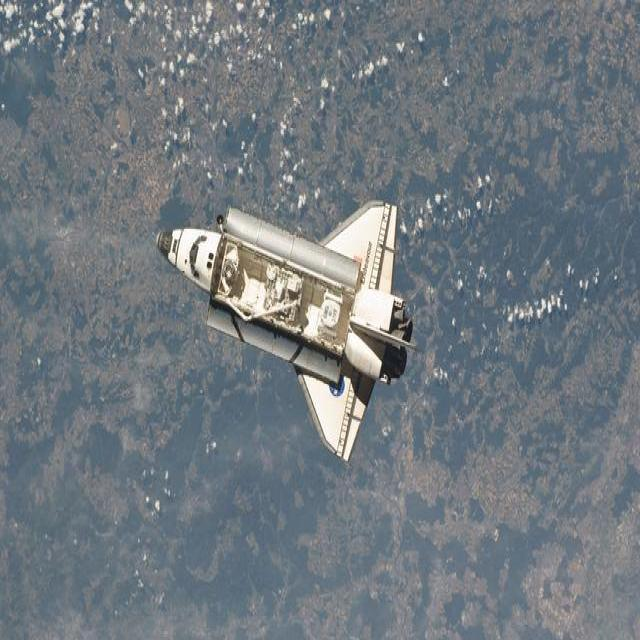satellite: (158, 203, 412, 460)
